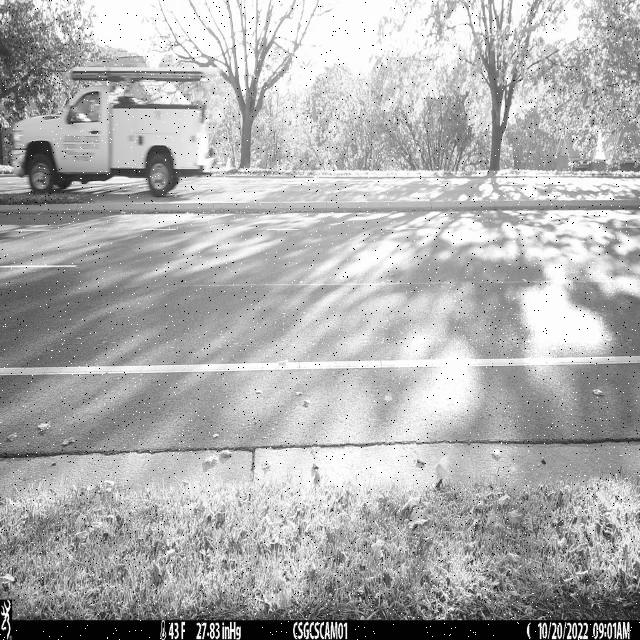Pickup- Utility: (10, 67, 220, 198)
